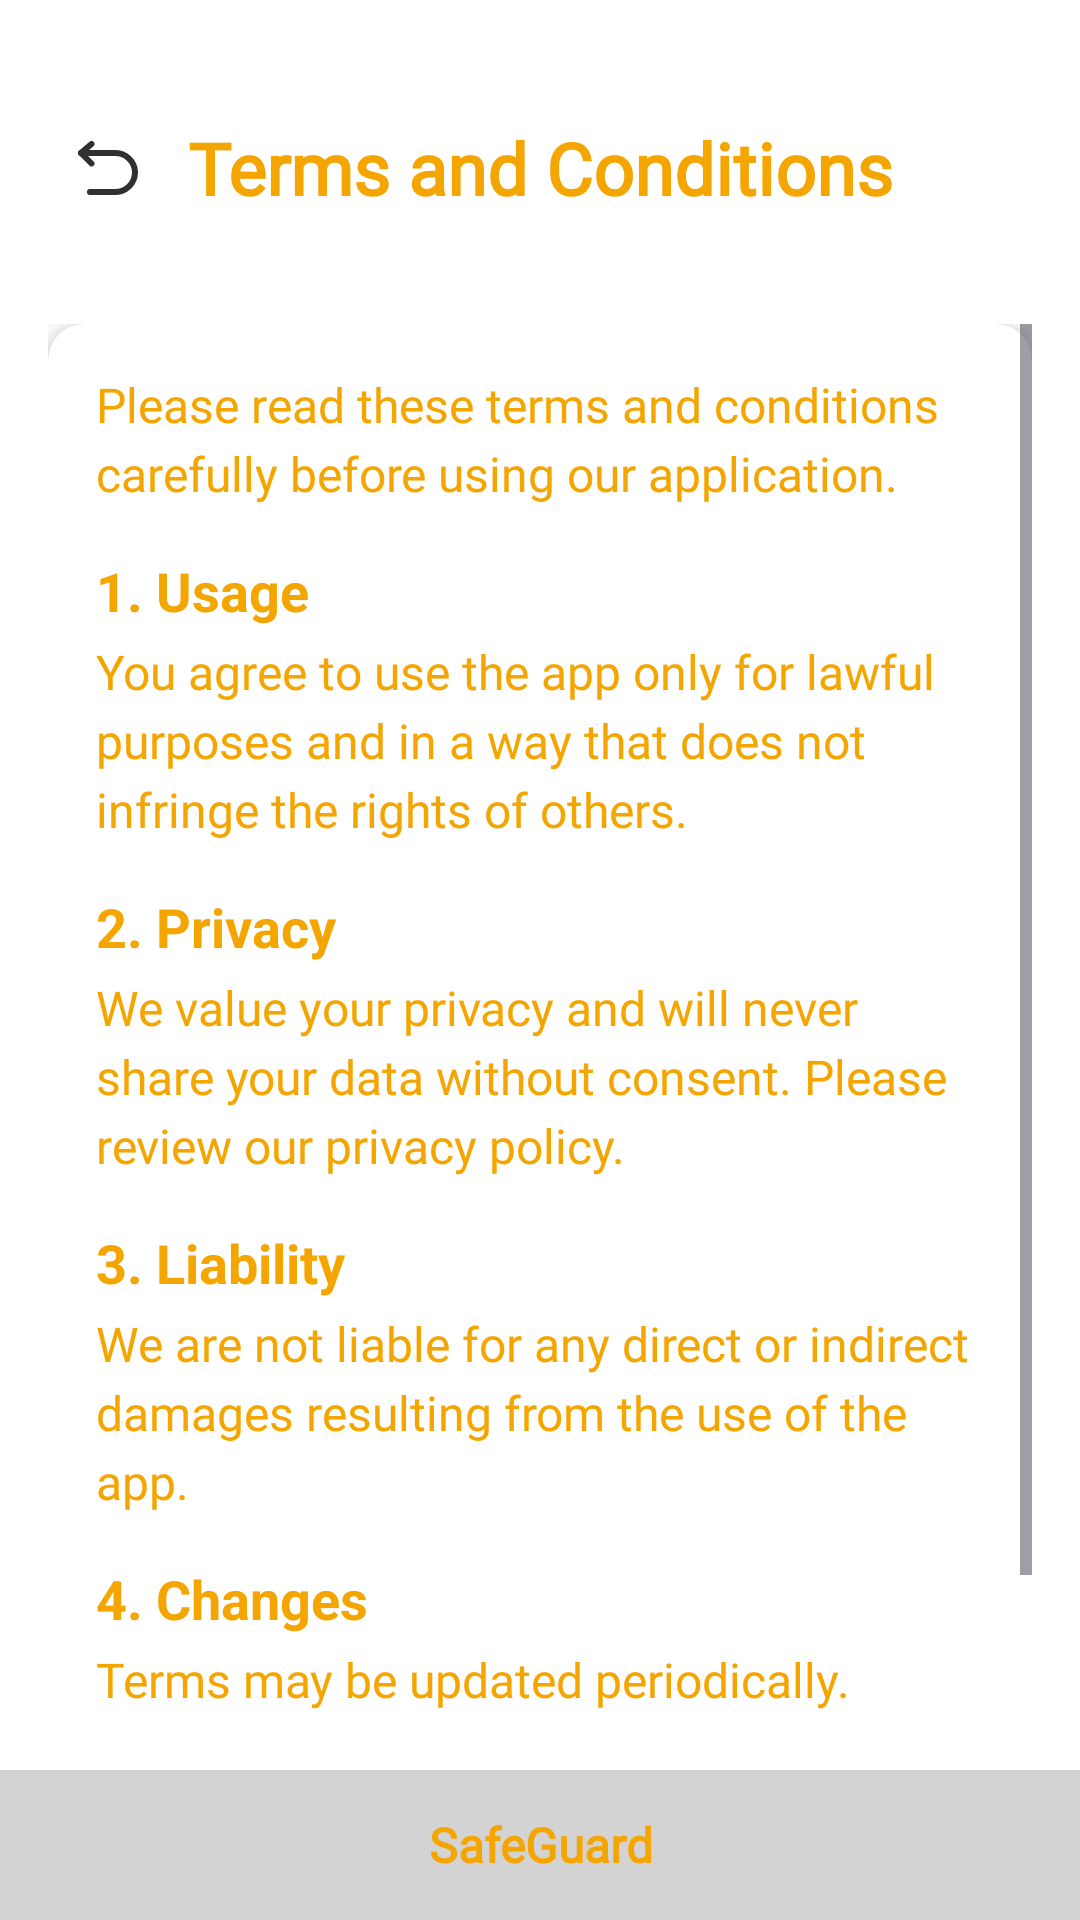

Icons on this 1080 × 1920 Android screen, each with its box as {"x1": x1, "y1": y1, "x2": x2, "y2": y2}:
Back: {"x1": 77, "y1": 140, "x2": 138, "y2": 195}
